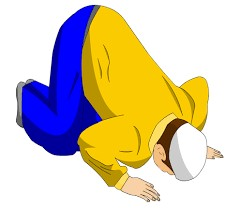sujud: (11, 4, 224, 204)
